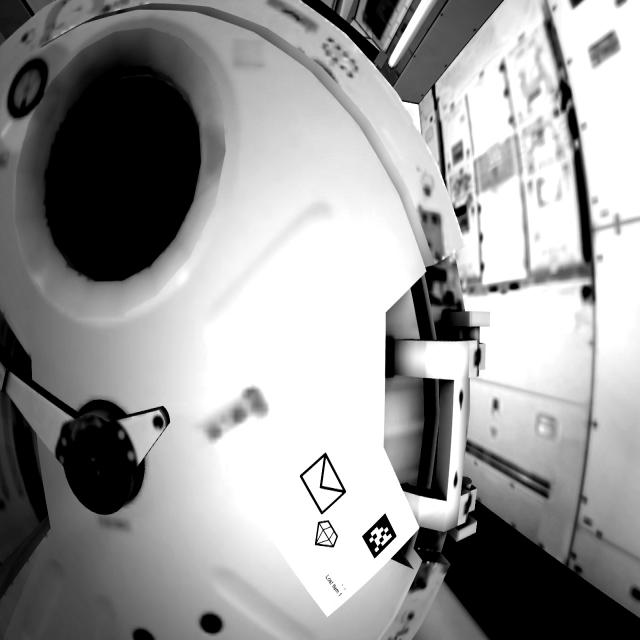diamond: (308, 514, 343, 560)
letter: (294, 447, 359, 523)
